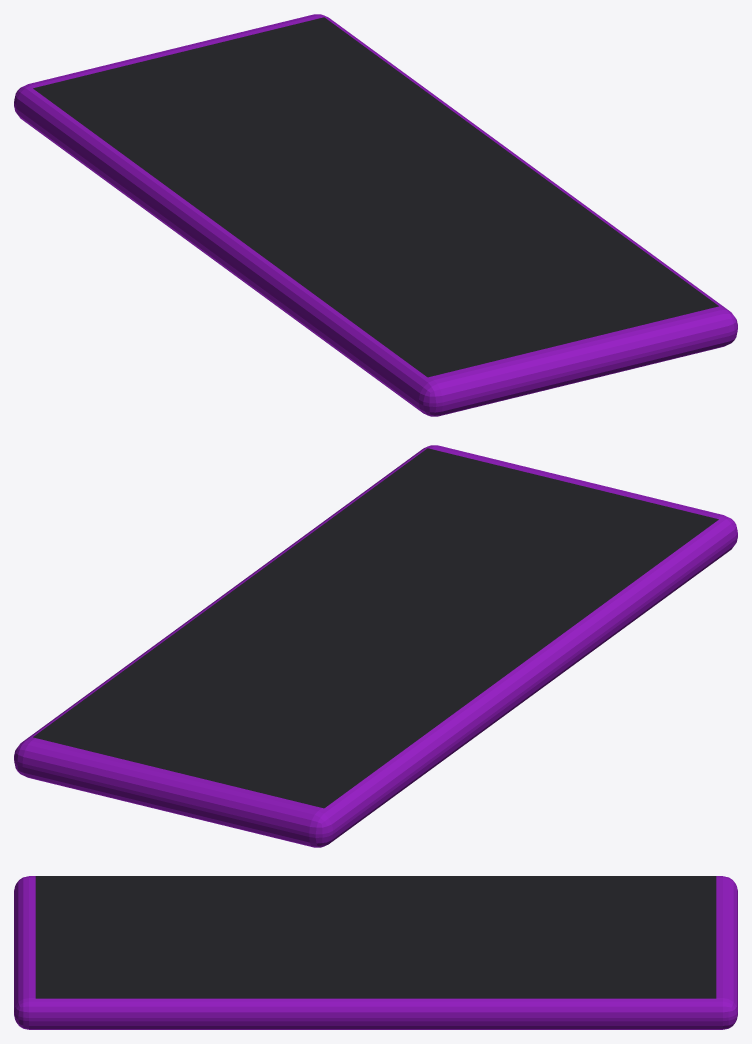
The model's file is vivo-t-model-68-mid-range-2025.glb.
The picture shows the model from 3 angles, top to bottom: view 1: azimuth 30°, elevation 25°; view 2: azimuth 150°, elevation 25°; view 3: azimuth 270°, elevation 25°; orthographic projection. The views are drawn at different scales.
Visible parts, largest first — view 1: Phone_Screen, Phone_Body; view 2: Phone_Screen, Phone_Body; view 3: Phone_Screen, Phone_Body.
Part boxes in pixels (x1,y1,x2,y2): Phone_Screen: (33,17,718,377); Phone_Body: (14,14,737,416); Phone_Screen: (33,448,718,808); Phone_Body: (14,445,737,847); Phone_Screen: (35,876,716,998); Phone_Body: (14,876,737,1029).
Bounding box in the file's own units: 0.0723 × 0.0078 × 0.166.
